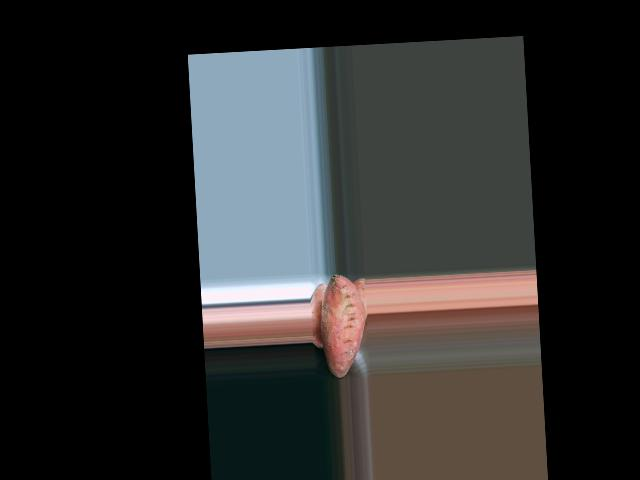sweet_potato: (322, 273, 364, 377)
